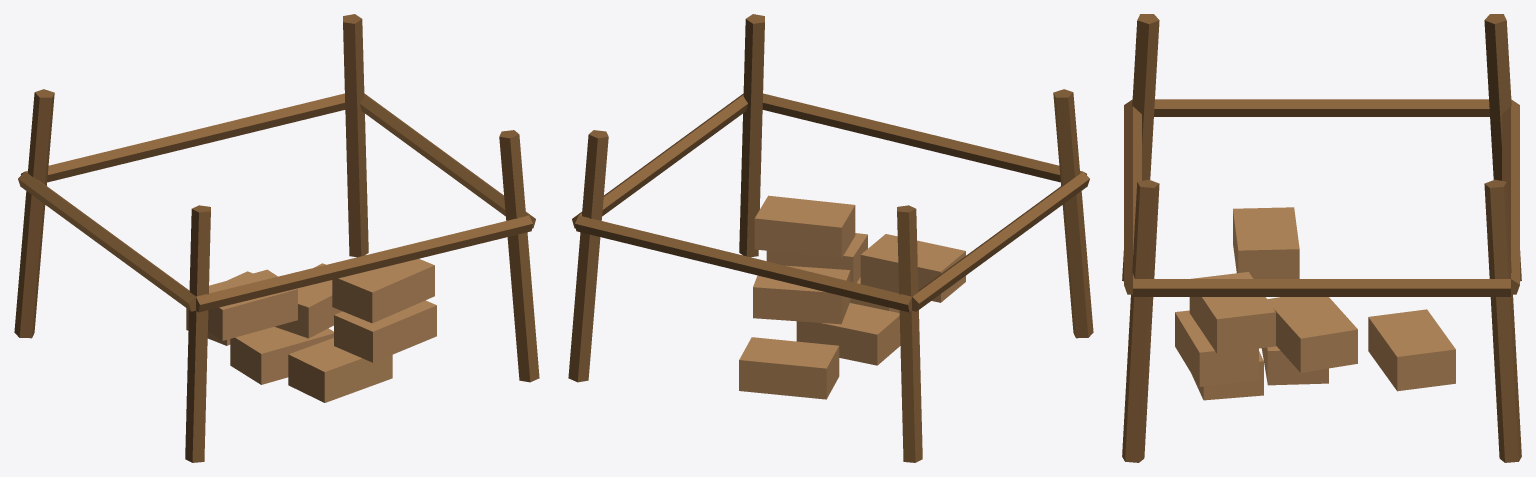
The model's file is site.glb.
The picture shows the model from 3 angles, left to right: view 1: azimuth 30°, elevation 25°; view 2: azimuth 150°, elevation 25°; view 3: azimuth 270°, elevation 25°; orthographic projection. The views are drawn at different scales.
Parts seen in each view (by area): view 1: part.004, part.005, part.001, part, part.003, part.002, part.010, part.011, part.009, part.013, part.006, part.008 (+2 smaller); view 2: part.005, part.010, part.014, part.004, part.003, part.002, part, part.001, part.008, part.012, part.006, part.013 (+2 smaller); view 3: part.007, part.001, part.003, part.006, part.014, part.012, part.013, part.010, part.009, part, part.002, part.004 (+3 smaller).
Part boxes in pixels (x1=…): part.004: x1=196, y1=215, x2=532, y2=312; part.005: x1=21, y1=93, x2=345, y2=182; part.001: x1=499, y1=130, x2=539, y2=382; part: x1=185, y1=205, x2=210, y2=462; part.003: x1=343, y1=14, x2=368, y2=257; part.002: x1=14, y1=89, x2=54, y2=338; part.010: x1=332, y1=259, x2=434, y2=323; part.011: x1=288, y1=338, x2=392, y2=402; part.009: x1=334, y1=300, x2=436, y2=362; part.013: x1=208, y1=269, x2=297, y2=340; part.006: x1=18, y1=172, x2=195, y2=311; part.008: x1=230, y1=326, x2=333, y2=384; part.005: x1=575, y1=215, x2=911, y2=312; part.010: x1=754, y1=195, x2=855, y2=258; part.014: x1=739, y1=337, x2=839, y2=399; part.004: x1=762, y1=93, x2=1086, y2=182; part.003: x1=568, y1=130, x2=608, y2=382; part.002: x1=897, y1=205, x2=922, y2=462; part: x1=1053, y1=89, x2=1093, y2=338; part.001: x1=739, y1=14, x2=764, y2=257; part.008: x1=796, y1=303, x2=900, y2=365; part.012: x1=753, y1=265, x2=850, y2=324; part.006: x1=912, y1=172, x2=1089, y2=311; part.013: x1=860, y1=234, x2=965, y2=302; part.007: x1=1133, y1=279, x2=1510, y2=296; part.001: x1=1122, y1=179, x2=1159, y2=462; part.003: x1=1484, y1=179, x2=1521, y2=462; part.006: x1=1154, y1=99, x2=1489, y2=116; part.014: x1=1368, y1=309, x2=1455, y2=391; part.012: x1=1267, y1=297, x2=1357, y2=372; part.013: x1=1233, y1=207, x2=1299, y2=278; part.010: x1=1189, y1=272, x2=1275, y2=353; part.009: x1=1175, y1=310, x2=1258, y2=386; part: x1=1122, y1=14, x2=1159, y2=281; part.002: x1=1484, y1=14, x2=1521, y2=281; part.004: x1=1124, y1=99, x2=1141, y2=294.
Size of the model in its own units: 1.89 by 1.26 by 1.69.
